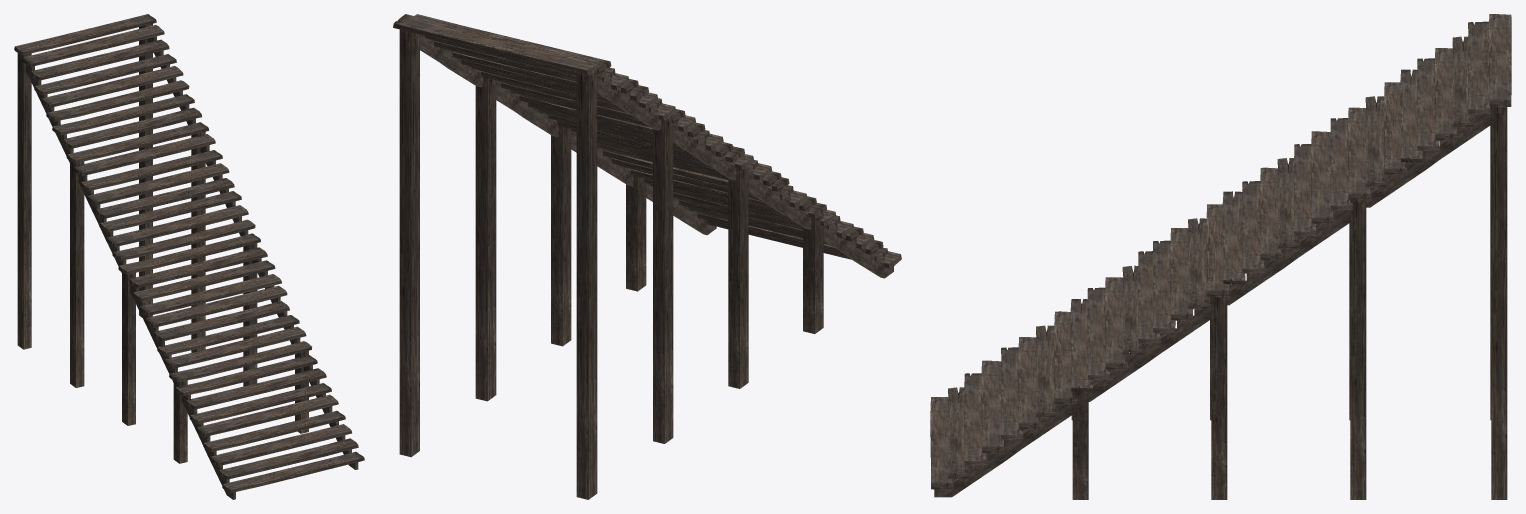
Rendered from jav_prp_stairs_a_xl-transformed.glb.
3 views of the same model, side by side, from view 1: azimuth 30°, elevation 25°; view 2: azimuth 150°, elevation 25°; view 3: azimuth 270°, elevation 25° (orthographic). The views are drawn at different scales.
Visible parts, largest first — view 1: default; view 2: default; view 3: default.
Boxes of the visible parts, x1,y1,x2,y2 form: default: (14, 14, 364, 499); default: (393, 14, 901, 499); default: (930, 14, 1511, 499).
Size of the model in its own units: 4.43 by 9.13 by 12.02.
Materials: 1 (1 with a texture image).
